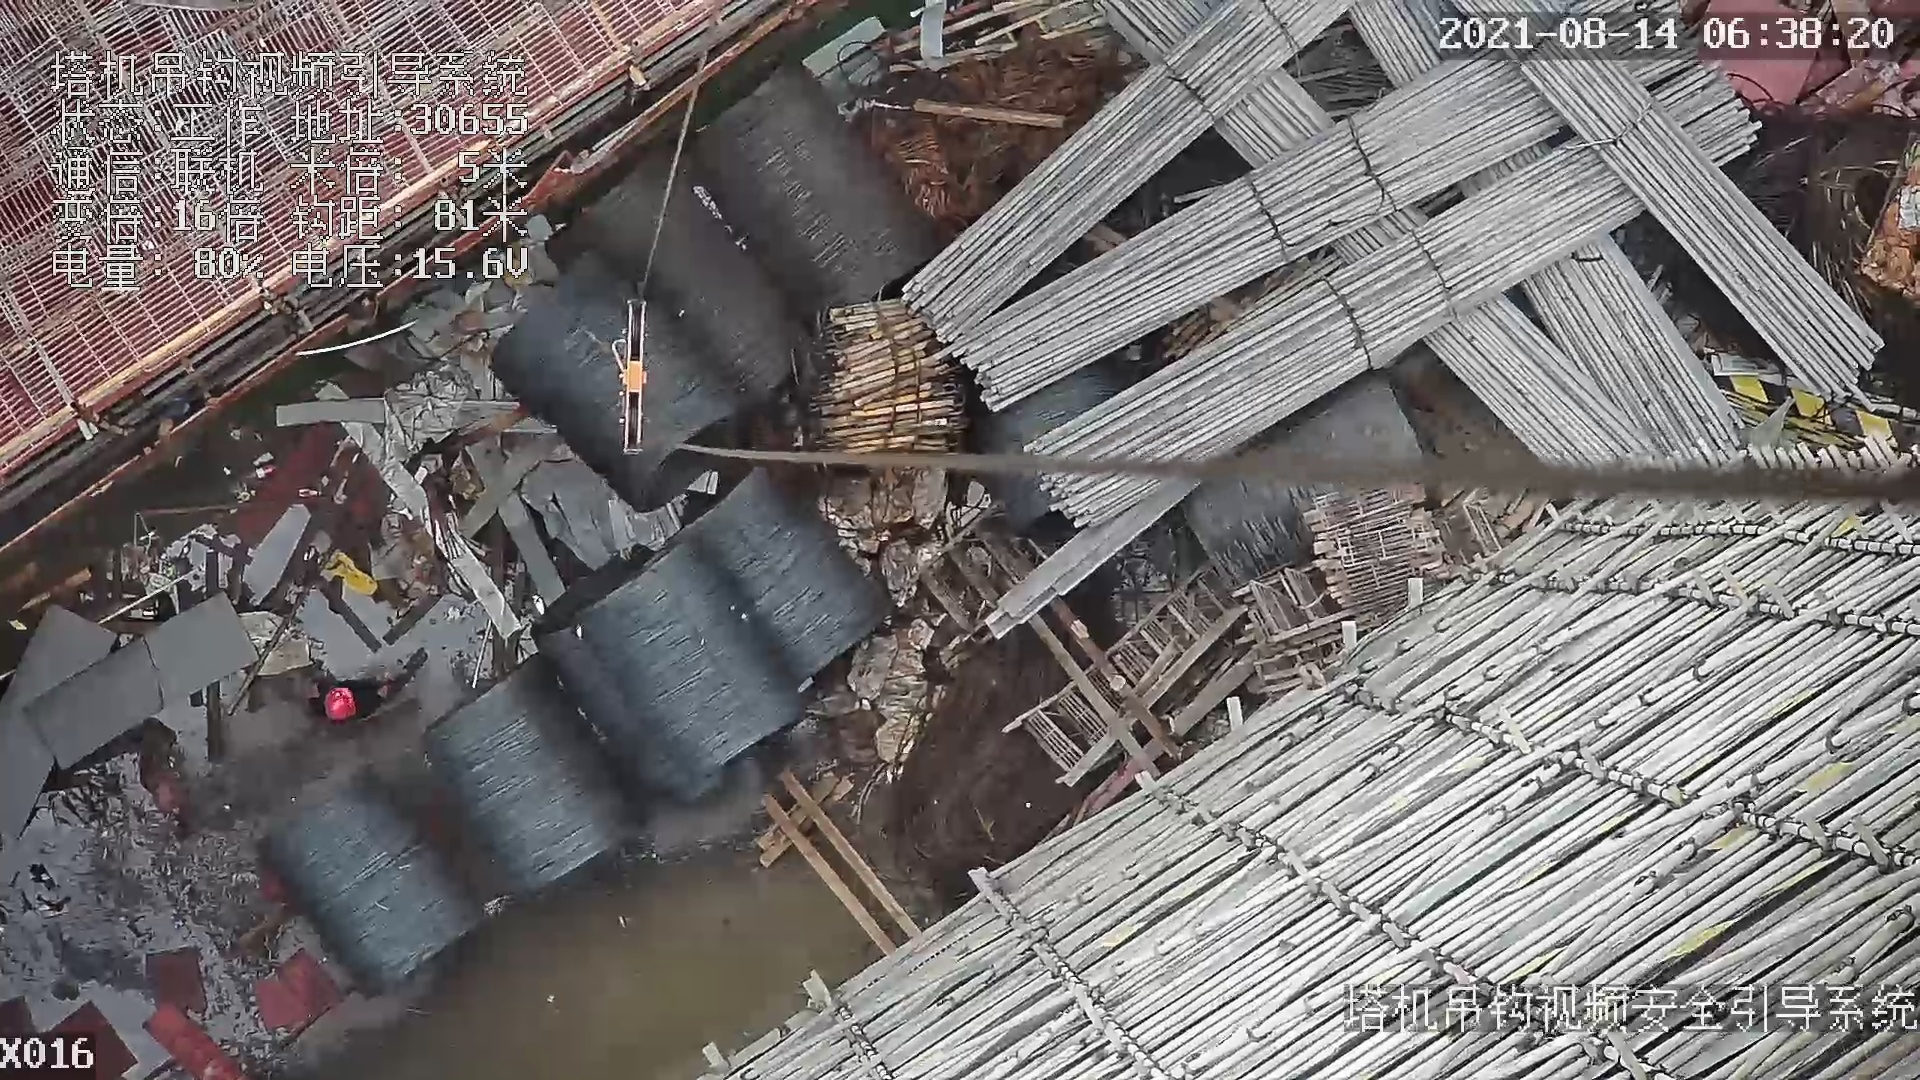helmet: (319, 683, 361, 733)
hook: (609, 294, 655, 459)
person: (317, 662, 427, 724)
